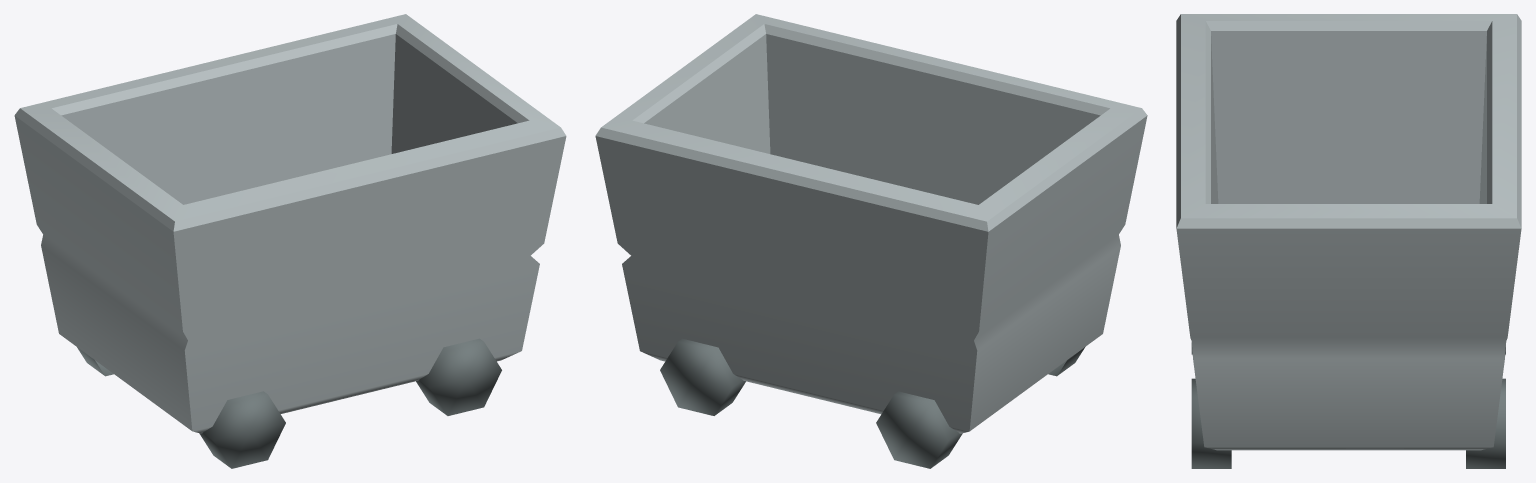
The model's file is SM_minecart.fbx.
3 renders of one model, left to right at view 1: azimuth 30°, elevation 25°; view 2: azimuth 150°, elevation 25°; view 3: azimuth 270°, elevation 25°, orthographic. The views are drawn at different scales.
Visible parts, largest first — view 1: minecart; view 2: minecart; view 3: minecart.
Boxes of the visible parts, bbox=[...] form: minecart: bbox=[14, 14, 566, 468]; minecart: bbox=[595, 14, 1147, 468]; minecart: bbox=[1176, 14, 1521, 468].
Size of the model in its own units: 203 by 133 by 142.
